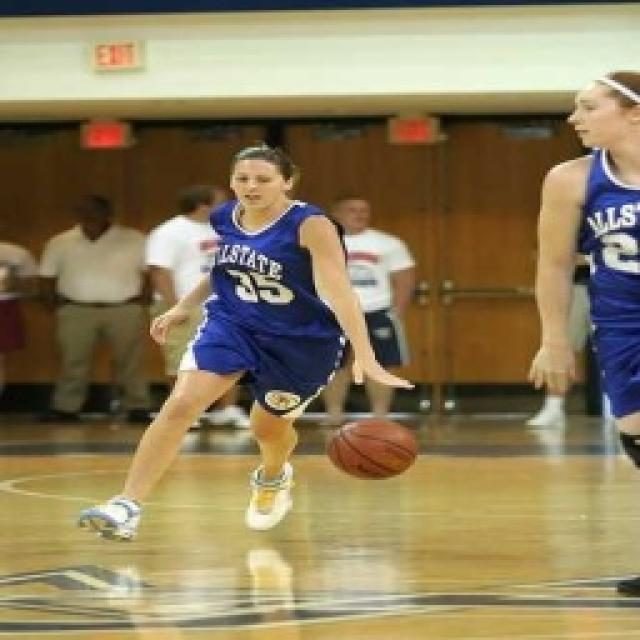rim: (330, 418, 418, 484)
